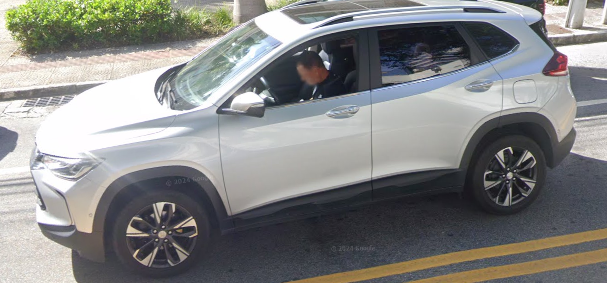car: (30, 1, 578, 276)
